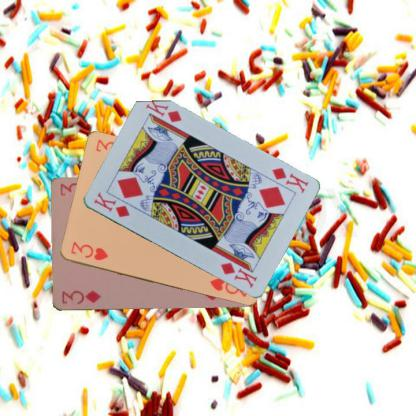3d: (59, 288, 102, 306)
3h: (68, 240, 109, 262)
Kd: (268, 165, 310, 195), (90, 189, 130, 219)
